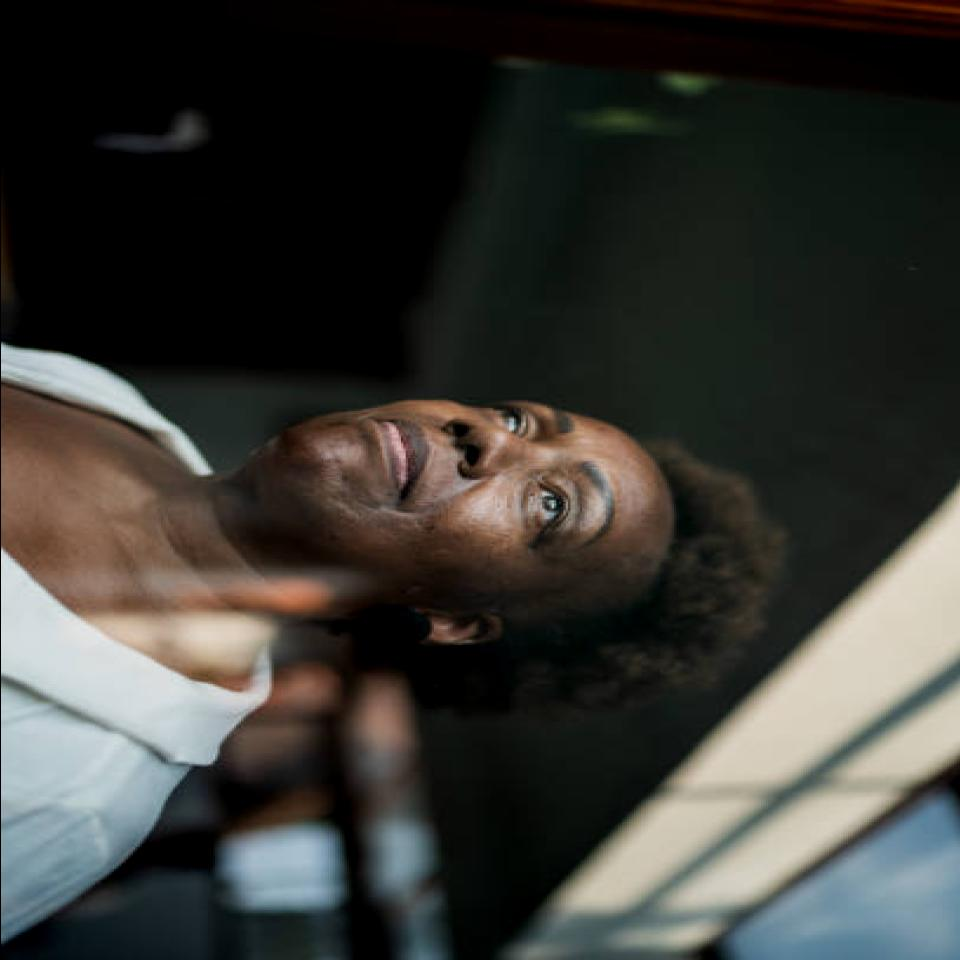Sadness: (274, 401, 668, 615)
